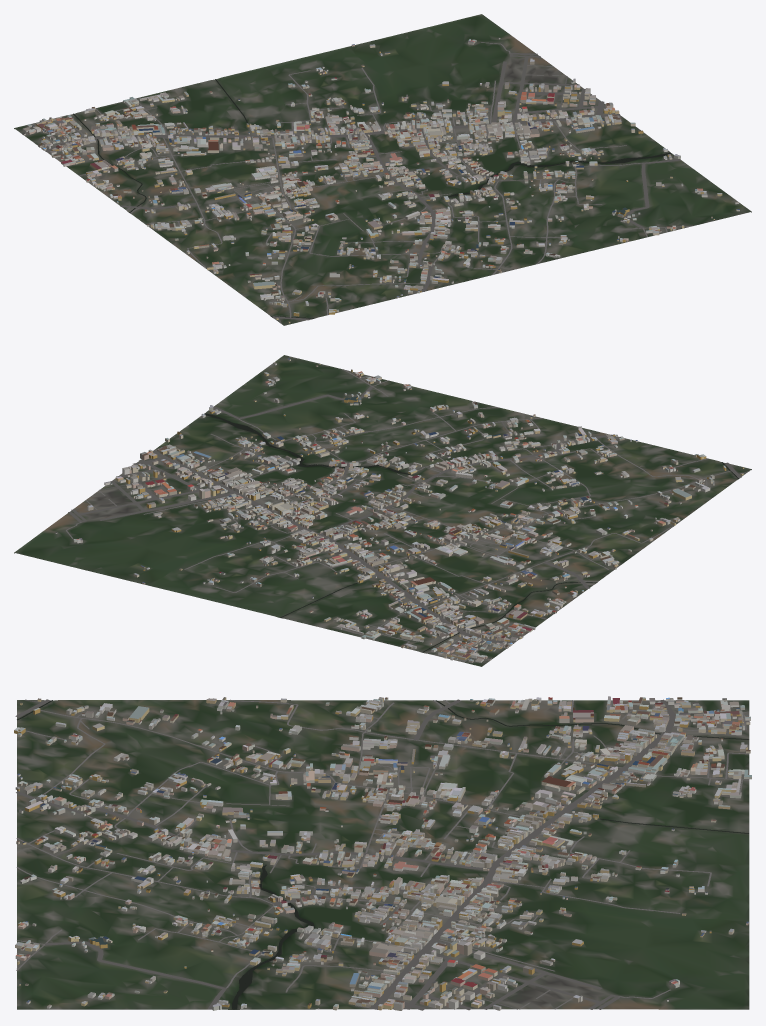
The picture shows the model from 3 angles, top to bottom: view 1: azimuth 30°, elevation 25°; view 2: azimuth 150°, elevation 25°; view 3: azimuth 270°, elevation 25°; orthographic projection. The views are drawn at different scales.
Visible parts, largest first — view 1: ground, buildings, roads, water; view 2: ground, buildings, roads, water; view 3: ground, buildings, roads, water.
Boxes of the visible parts, <box> form: ground: <box>14,14,751,325</box>; buildings: <box>22,37,739,323</box>; roads: <box>32,42,692,323</box>; water: <box>73,79,671,318</box>; ground: <box>14,355,751,666</box>; buildings: <box>55,358,744,662</box>; roads: <box>66,369,749,662</box>; water: <box>204,413,738,652</box>; ground: <box>17,700,749,1009</box>; buildings: <box>14,696,751,1010</box>; roads: <box>15,699,748,1010</box>; water: <box>17,700,749,1009</box>.
Size of the model in its own units: 1412 by 25.22 by 1411.
